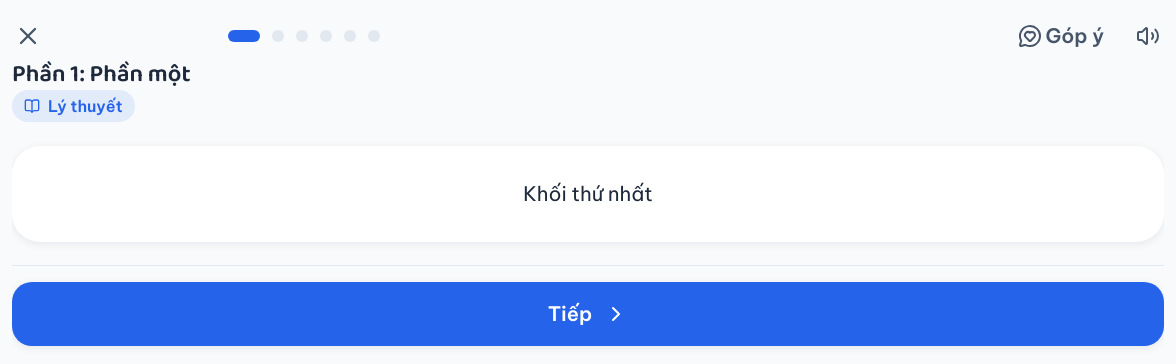
Test: SectionPlayer › going back › is not offered on the first screen
Expected: the button "Quay lại" is not shown
Click the button "Tiếp" at (588, 314), box [12,282,1164,346]
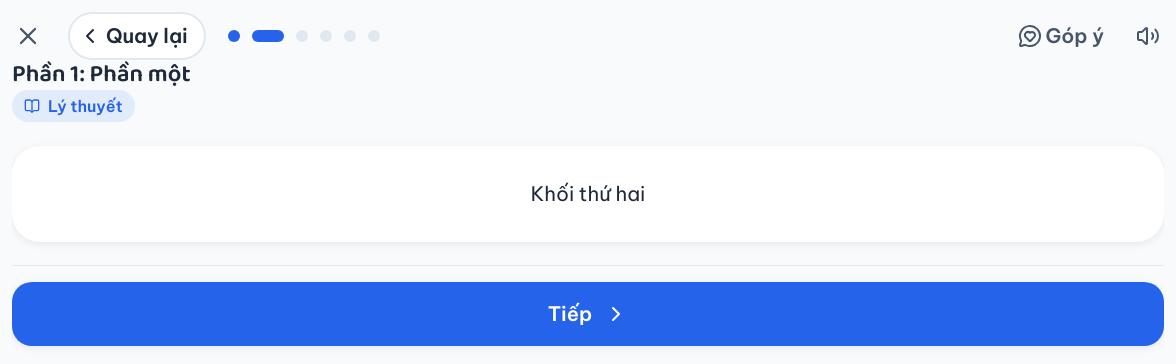
Result: the button "Quay lại" is shown
Click the button "Quay lại" at (137, 36), box [68,12,206,60]
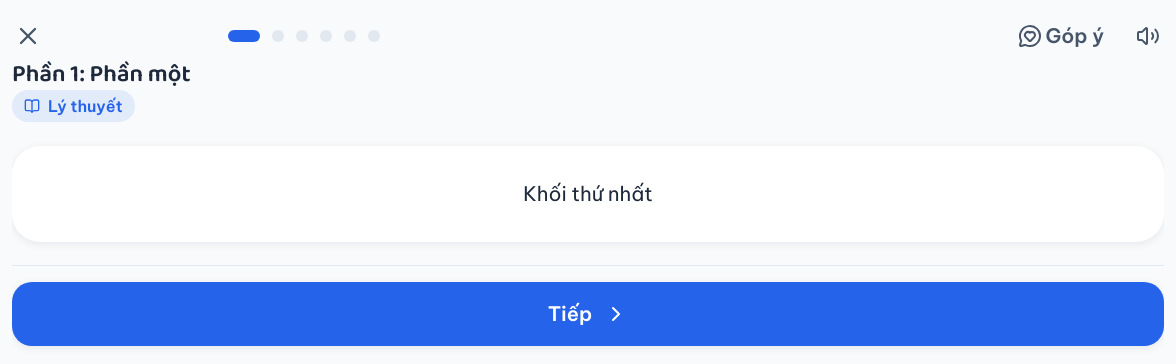
Result: the text "Khối thứ nhất" is shown at [523,178,653,210]
Result: the button "Quay lại" is gone
Click the button "Tiếp" at (588, 314), box [12,282,1164,346]
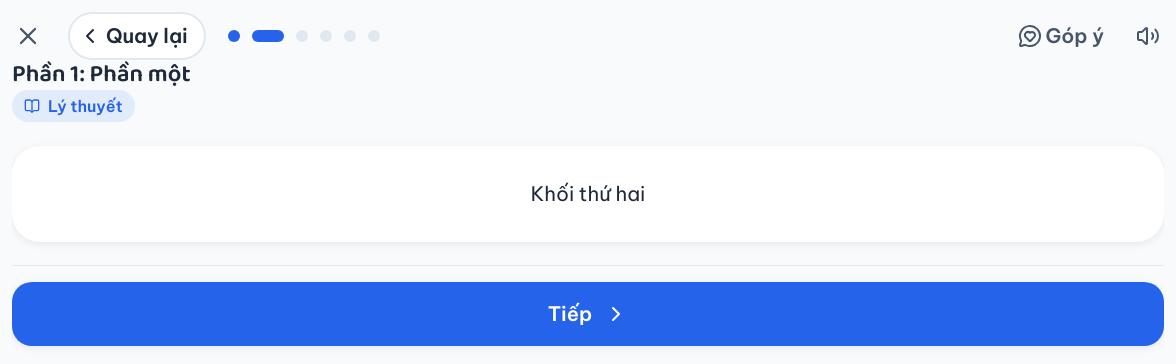
Result: the text "Khối thứ hai" is shown at [531,178,645,210]
